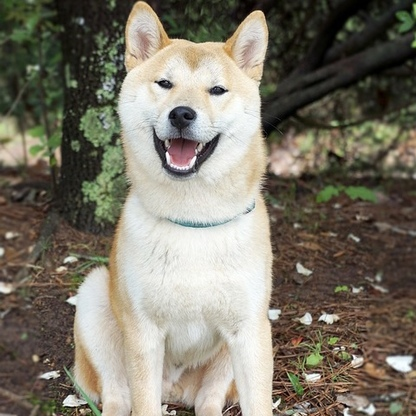shiba: (65, 1, 284, 416)
